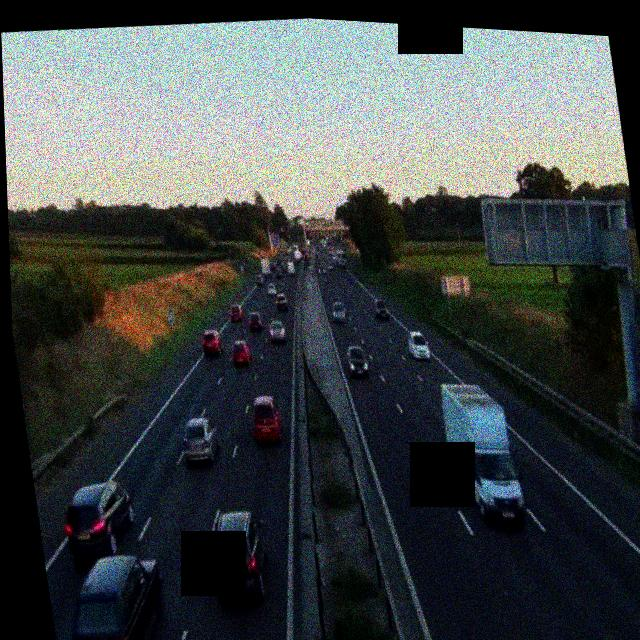car: (59, 547, 172, 640), (203, 504, 275, 606), (59, 476, 140, 566), (178, 413, 222, 465), (249, 393, 284, 444), (344, 343, 369, 379), (406, 327, 430, 361), (200, 326, 223, 357), (228, 337, 252, 366), (267, 317, 286, 344), (372, 295, 389, 319), (330, 299, 347, 323), (248, 312, 264, 336), (273, 291, 288, 311), (228, 303, 242, 321), (266, 282, 278, 296), (316, 264, 326, 275)
truck: (438, 378, 527, 532), (285, 252, 298, 276), (332, 246, 346, 268), (258, 258, 271, 280)
